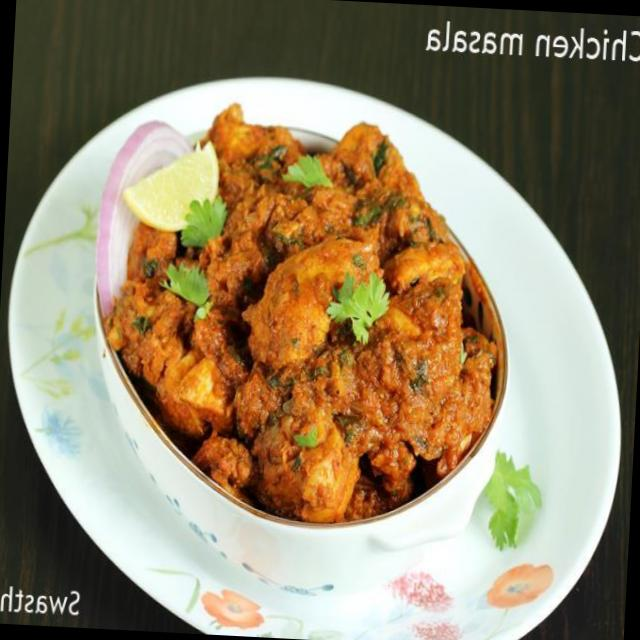chicken: (122, 132, 448, 496)
